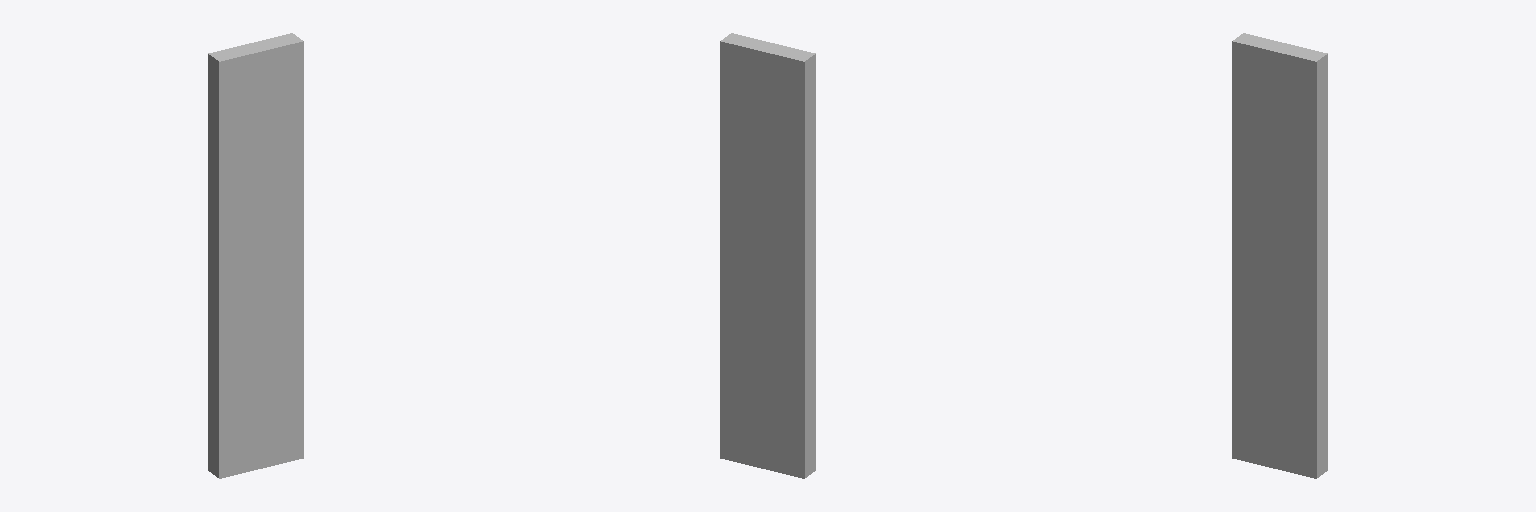
Rendered from Table2.obj.
3 renders of one model, left to right at view 1: azimuth 30°, elevation 25°; view 2: azimuth 150°, elevation 25°; view 3: azimuth 330°, elevation 25°, orthographic.
Parts seen in each view (by area): view 1: Table2_Plane.001; view 2: Table2_Plane.001; view 3: Table2_Plane.001.
Boxes of the visible parts, box(x1,y1,x2,y2) form: Table2_Plane.001: box(208, 33, 303, 478); Table2_Plane.001: box(720, 33, 815, 478); Table2_Plane.001: box(1232, 33, 1327, 478).
Size of the model in its own units: 0.8662 by 4.09 by 0.2005.